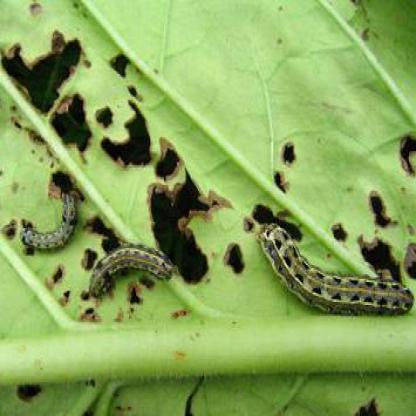armyworm: (257, 206, 413, 318), (86, 235, 178, 302), (20, 192, 79, 258)
